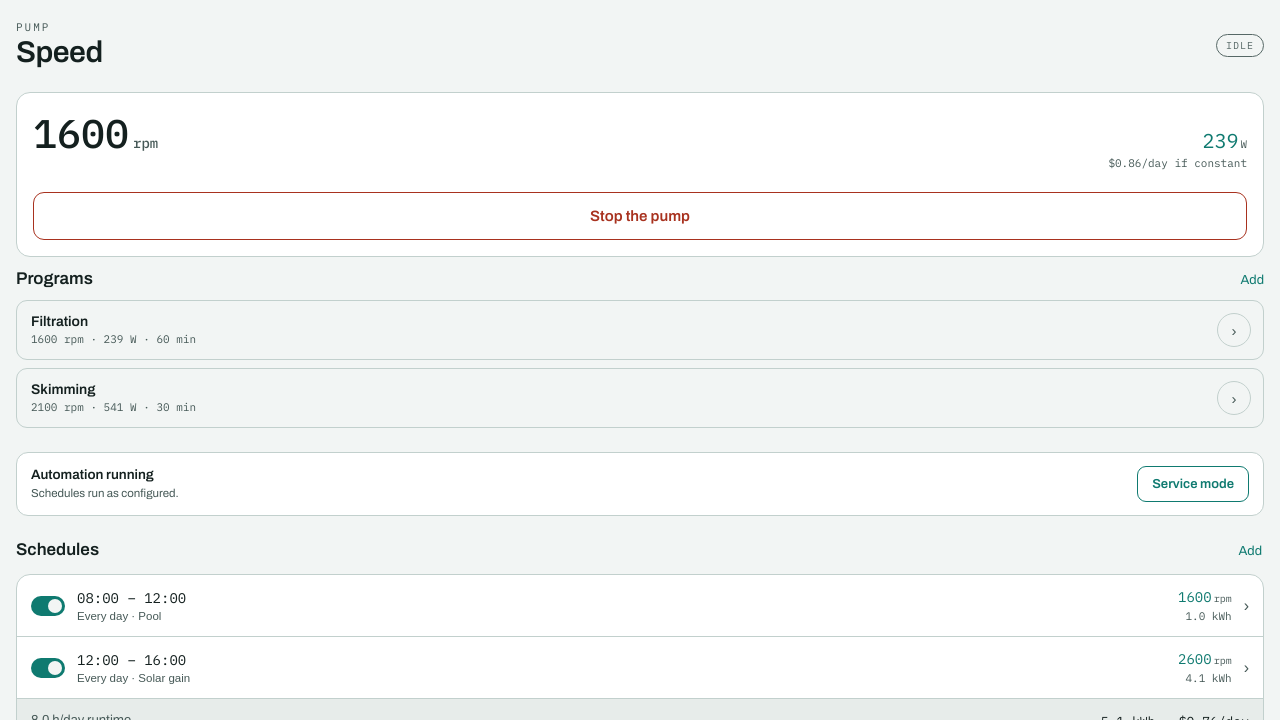
it: Pump — programs › opens the editor for a new one
The width and height of the screenshot is (1280, 720).
Click the button with aria-label "Add program" at (1252, 280), box [1240,273,1264,287]
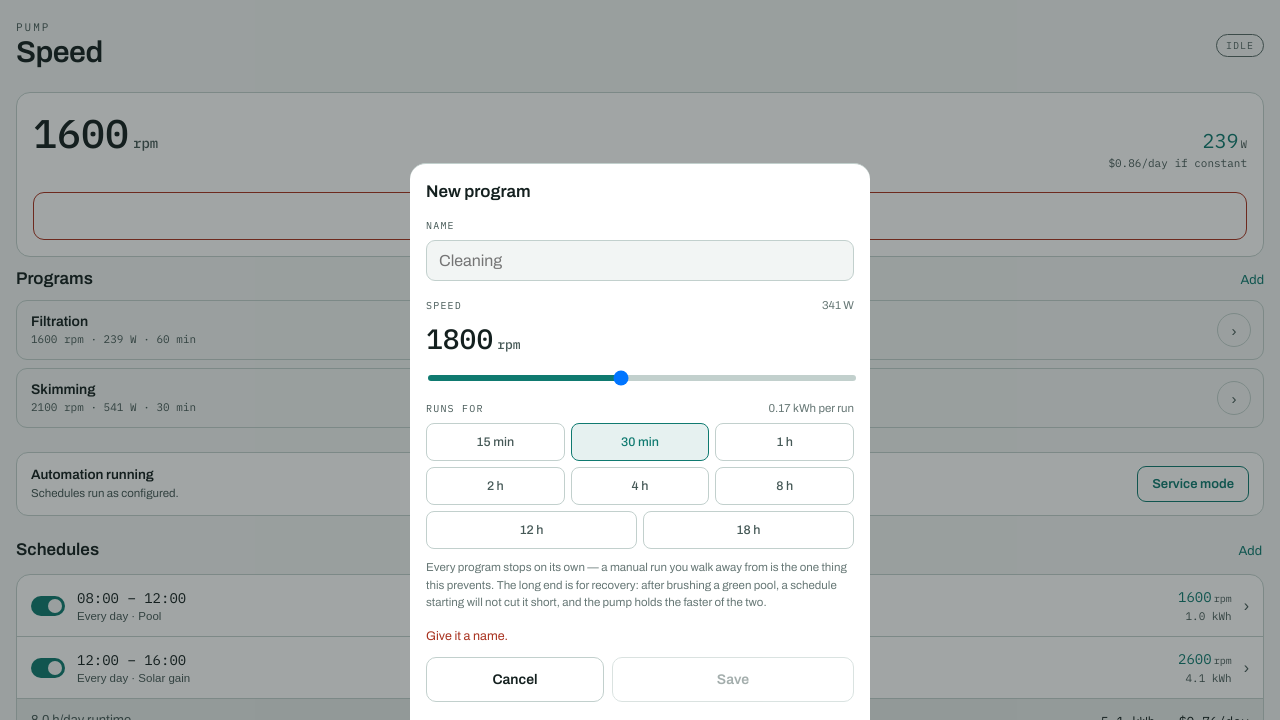
Expected: the dialog is shown, [410,163,870,719]
